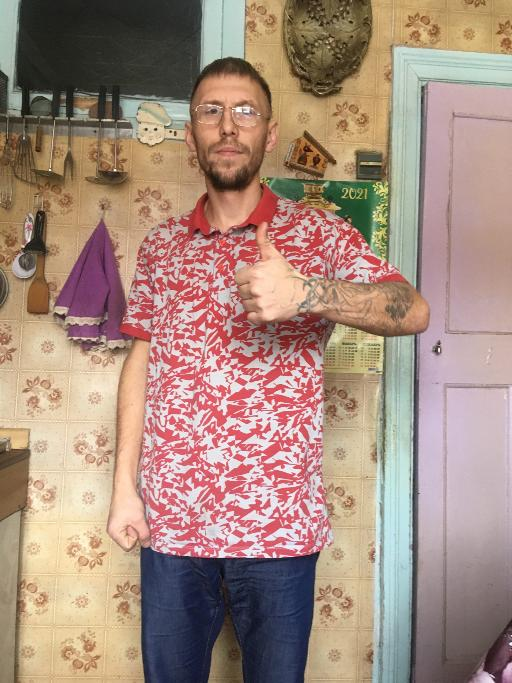like: (231, 219, 302, 327)
no_gesture: (104, 487, 151, 553)
